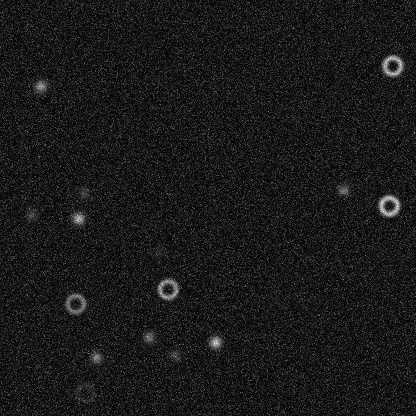Ring: (63, 291, 87, 315), (380, 53, 404, 77), (377, 193, 401, 217), (73, 380, 97, 404), (155, 277, 179, 301)
Spot: (167, 347, 183, 363), (207, 334, 223, 350), (70, 210, 86, 226), (335, 181, 351, 197), (150, 243, 166, 259), (32, 78, 48, 94), (23, 206, 39, 222), (140, 329, 156, 345), (75, 185, 91, 201), (88, 349, 104, 365)
